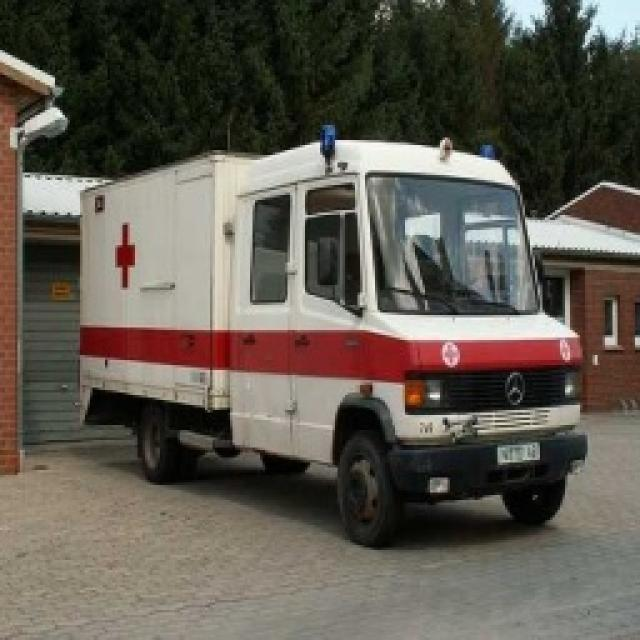emergency-vehicle: (62, 126, 606, 546)
